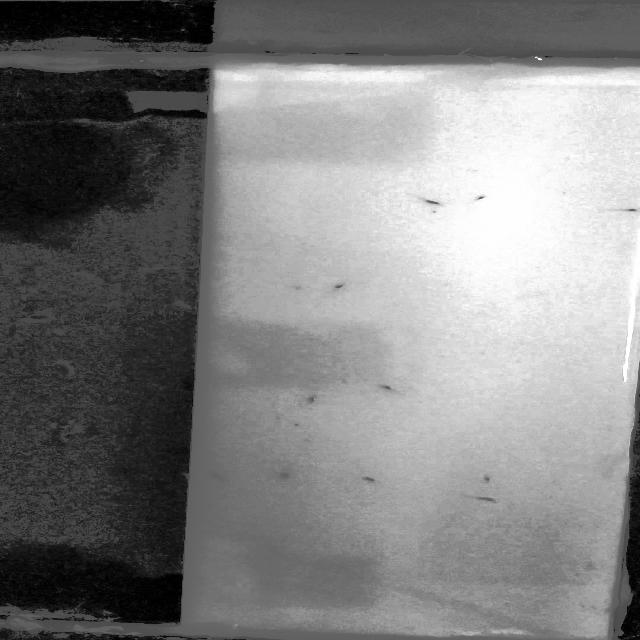shrimp: (314, 280, 348, 296), (416, 194, 446, 211), (374, 380, 407, 395), (474, 495, 511, 508), (460, 190, 500, 202), (354, 470, 384, 486), (295, 394, 331, 407), (470, 474, 502, 486), (270, 471, 300, 483), (205, 471, 229, 485), (618, 204, 640, 217)
